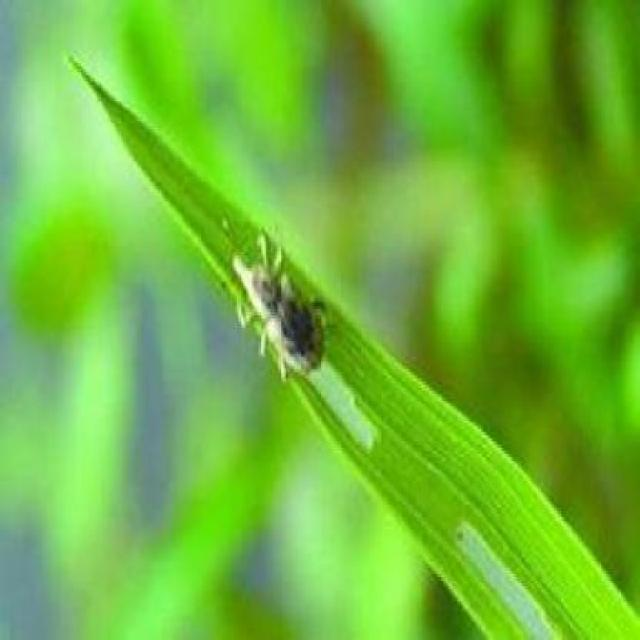rice-bug: (233, 225, 332, 384)
